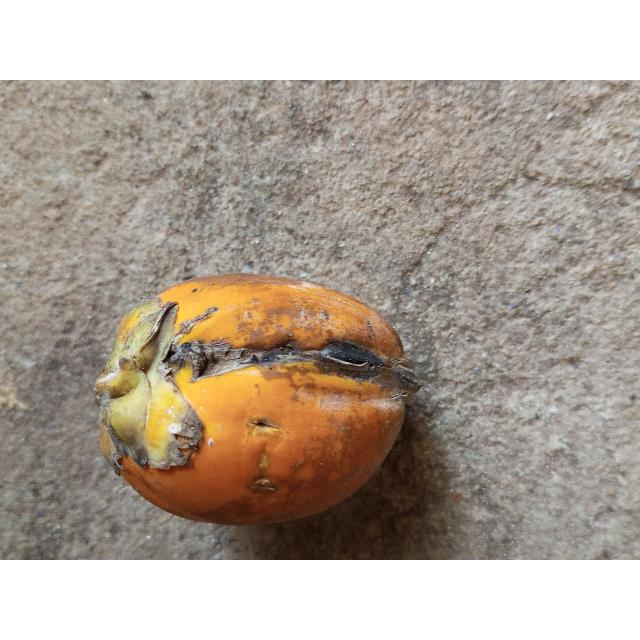damaged: (96, 273, 414, 527)
